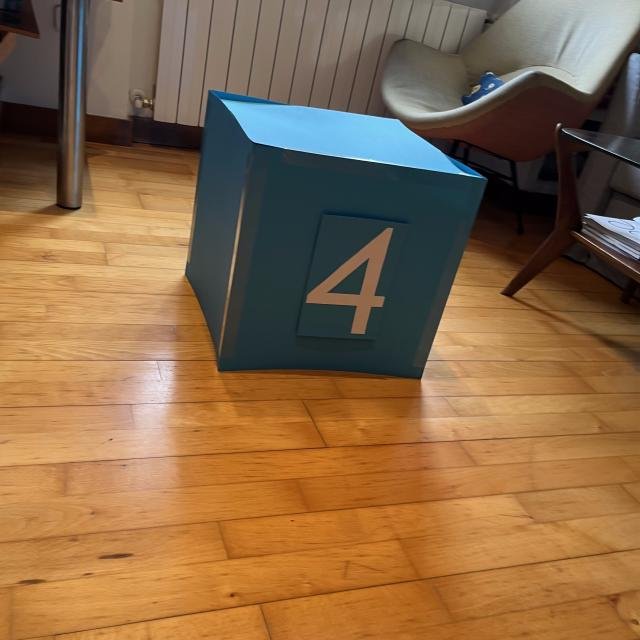box: (181, 85, 489, 382)
